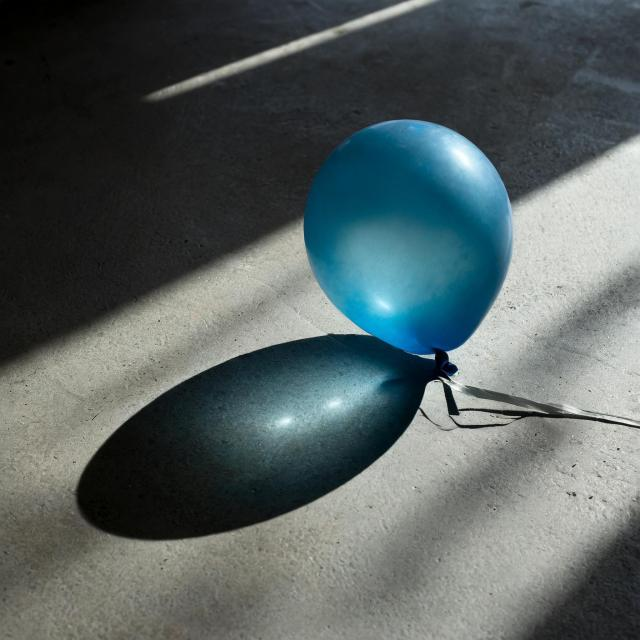blue: (305, 120, 515, 370)
